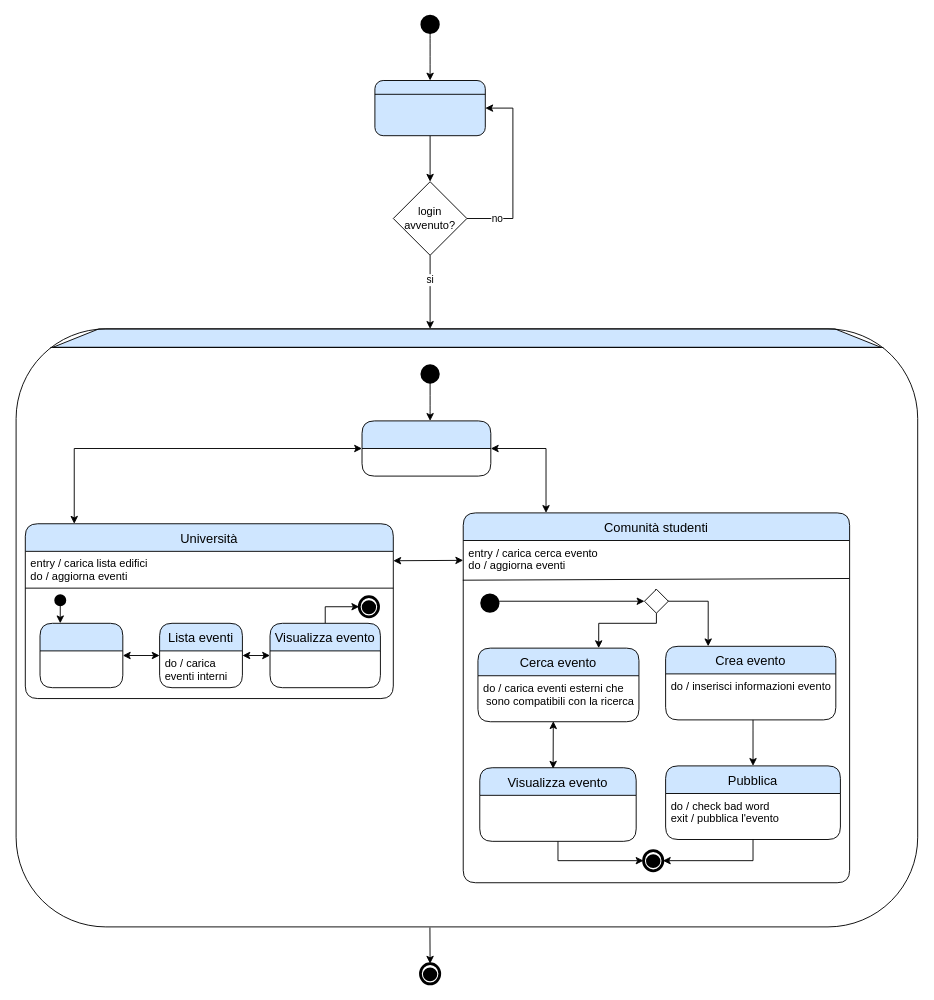
Image size: 934x1000. Some labels were removed from this diagram. Each missing label, with the centre of its shape:
"Accesso" goes at point (466, 337).
"Home" goes at point (426, 448).
"Lista edifici" goes at point (81, 655).
"Login exit / reindirizza al login dell'università" goes at point (429, 108).
